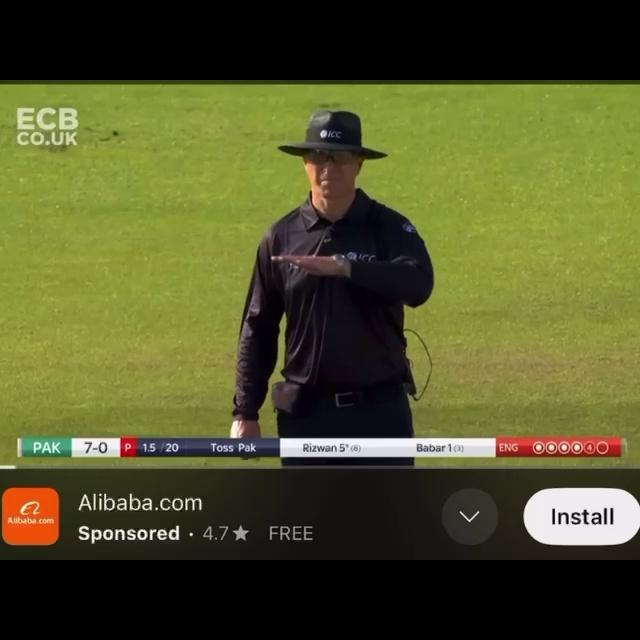umpire: (198, 99, 476, 433)
